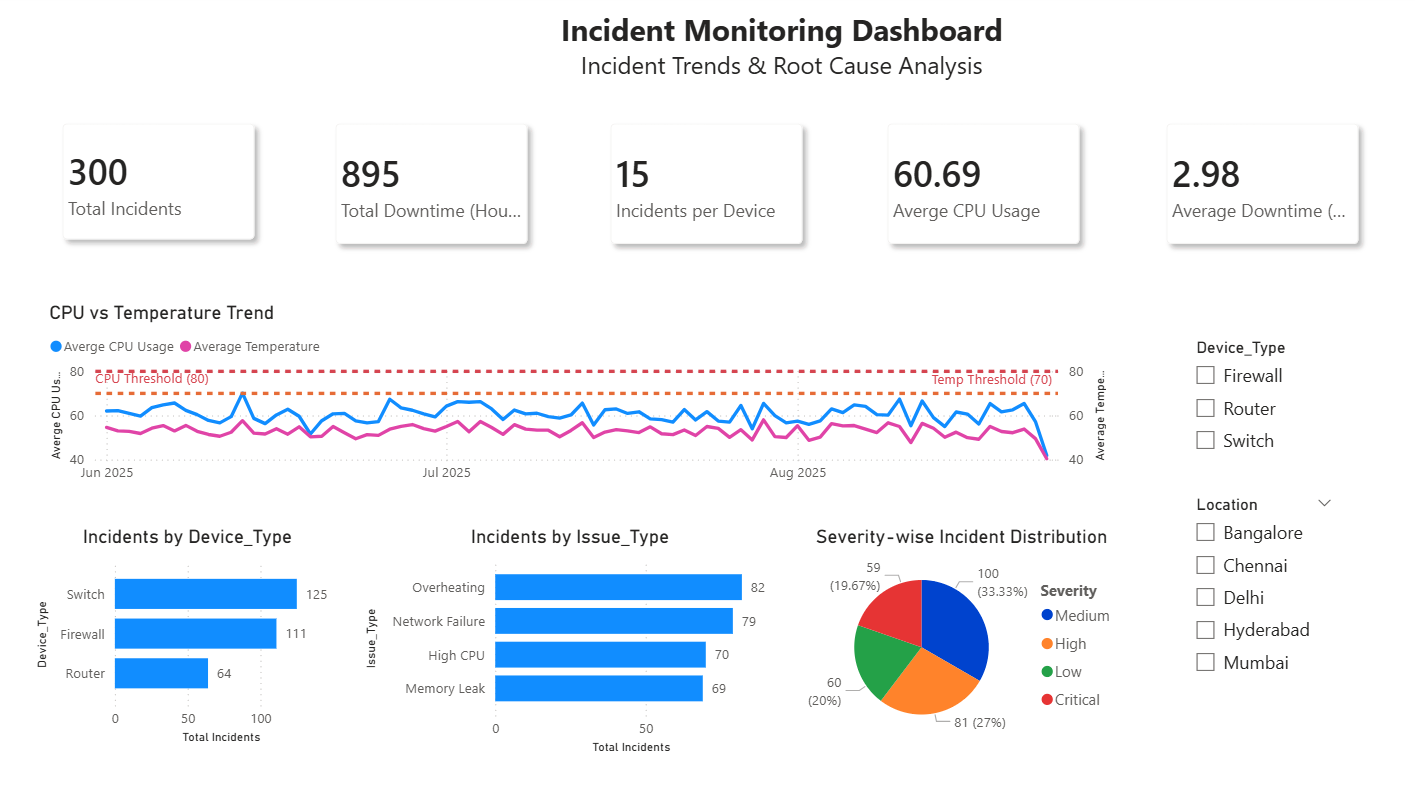

Layout of this report page (visuals, bound fields, positions):
{"tool":"powerbi","page":{"name":"Incident Analysis","canvas":[1280,720],"ordinal":0},"visuals":[{"type":"cardVisual","fields":{"Data":["Measure Table.Total Incidents"]},"box":[30.5,86,230,162],"z":0},{"type":"lineChart","title":"CPU vs Temperature Trend","fields":{"Y":["Measure Table.Avg CPU"],"Y2":["Measure Table.Avg Temp"],"Category":["cleaned_device_health_logs.Timestamp.Variation.Date Hierarchy.Year","cleaned_device_health_logs.Timestamp.Variation.Date Hierarchy.Quarter","cleaned_device_health_logs.Timestamp.Variation.Date Hierarchy.Month","cleaned_device_health_logs.Timestamp.Variation.Date Hierarchy.Day"]},"box":[43,274,956,172],"z":1000},{"type":"clusteredBarChart","title":"Incidents by Issue_Type","fields":{"Category":["clean_incident_logs.Issue_Type"],"Y":["Measure Table.Total Incidents"]},"box":[325,474.7,378,209],"z":2000},{"type":"cardVisual","fields":{"Data":["Measure Table.Total Downtime"]},"box":[274.5,86,230,166],"z":3000},{"type":"slicer","fields":{"Values":["clean_device_info.Location"]},"box":[1062,444,146.9,203.3],"z":3000,"group":"g1"},{"type":"slicer","fields":{"Values":["clean_device_info.Device_Type"]},"box":[1062,303,146.9,132.3],"z":4000,"group":"g1"},{"type":"barChart","title":"Incidents by Device_Type","fields":{"Category":["clean_device_info.Device_Type"],"Y":["Measure Table.Total Incidents"]},"box":[30,474.7,282,200],"z":4000},{"type":"textbox","box":[389,7,630,83],"z":5000},{"type":"cardVisual","title":"Incident Rate (per Device)","fields":{"Data":["Measure Table.Incident Rate"]},"box":[521.5,86,230,166],"z":6000},{"type":"group","id":"g1","title":"Group 2","box":[1062,303,147,344],"z":7000},{"type":"pieChart","title":"Severity-wise Incident Distribution","fields":{"Category":["clean_incident_logs.Severity"],"Y":["CountNonNull(clean_incident_logs.Incident_ID)"]},"box":[717,474.7,295,200],"z":8000},{"type":"cardVisual","fields":{"Data":["Measure Table.Avg CPU"]},"box":[769.5,86,230,166],"z":9000},{"type":"cardVisual","fields":{"Data":["Measure Table.Avg Downtime"]},"box":[1019.5,86,230,166],"z":10000}]}

Visuals, with their boxes in screenshot pixels (x1, y1, x2, y2), scaled from the page's 1280x720 canvas onto the 1415x787 screenshot:
cardVisual - Measure Table.Total Incidents: pyautogui.locateOnScreen(34, 94, 288, 271)
"CPU vs Temperature Trend" lineChart: pyautogui.locateOnScreen(48, 299, 1104, 488)
"Incidents by Issue_Type" clusteredBarChart: pyautogui.locateOnScreen(359, 519, 777, 747)
cardVisual - Measure Table.Total Downtime: pyautogui.locateOnScreen(303, 94, 558, 275)
slicer - clean_device_info.Location: pyautogui.locateOnScreen(1174, 485, 1336, 708)
slicer - clean_device_info.Device_Type: pyautogui.locateOnScreen(1174, 331, 1336, 476)
"Incidents by Device_Type" barChart: pyautogui.locateOnScreen(33, 519, 345, 737)
textbox: pyautogui.locateOnScreen(430, 8, 1126, 98)
"Incident Rate (per Device)" cardVisual: pyautogui.locateOnScreen(577, 94, 831, 275)
"Group 2" group: pyautogui.locateOnScreen(1174, 331, 1337, 707)
"Severity-wise Incident Distribution" pieChart: pyautogui.locateOnScreen(793, 519, 1119, 737)
cardVisual - Measure Table.Avg CPU: pyautogui.locateOnScreen(851, 94, 1105, 275)
cardVisual - Measure Table.Avg Downtime: pyautogui.locateOnScreen(1127, 94, 1381, 275)
